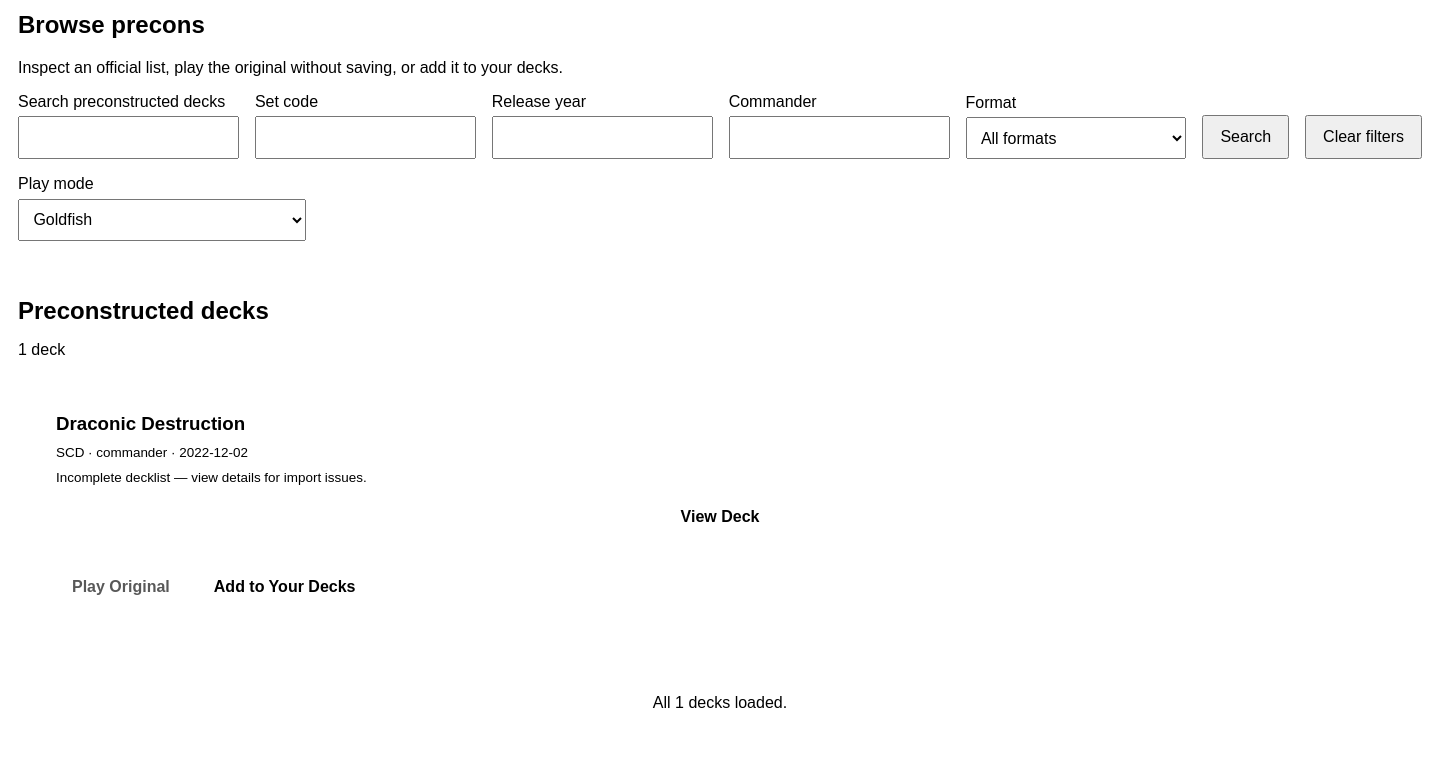
it: official details load from detail endpoint and incomplete lists disable both actions
The width and height of the screenshot is (1440, 769).
Click the button "View Deck" at (720, 517), box [56,495,1384,539]
(page scrolled)
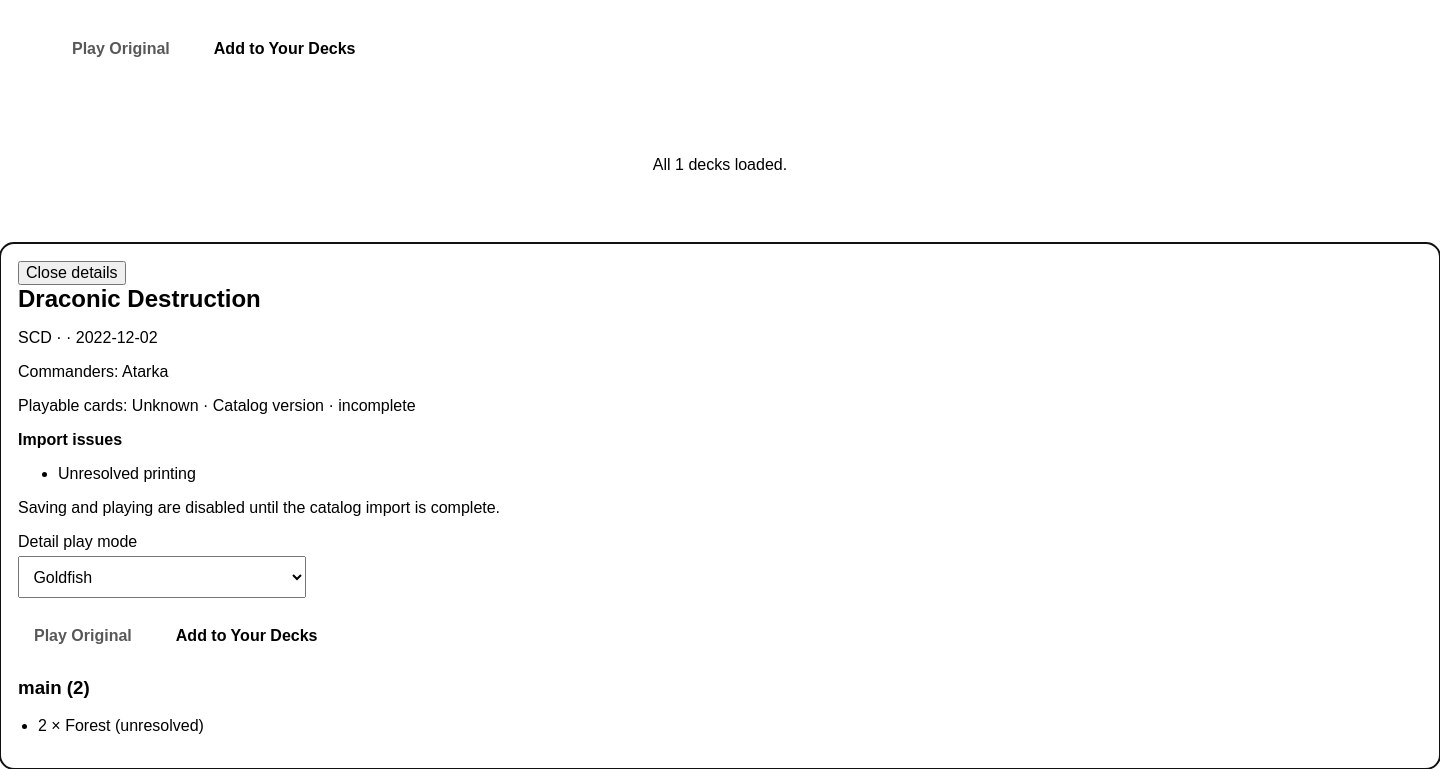
Expected: the list item "Unresolved printing" is shown, [58,465,196,482]
Expected: the list item "2 × Forest (unresolved)" is shown, [38,717,204,734]
Expected: the button "Play Original" below "Detail play mode" is disabled, [18,614,148,658]
